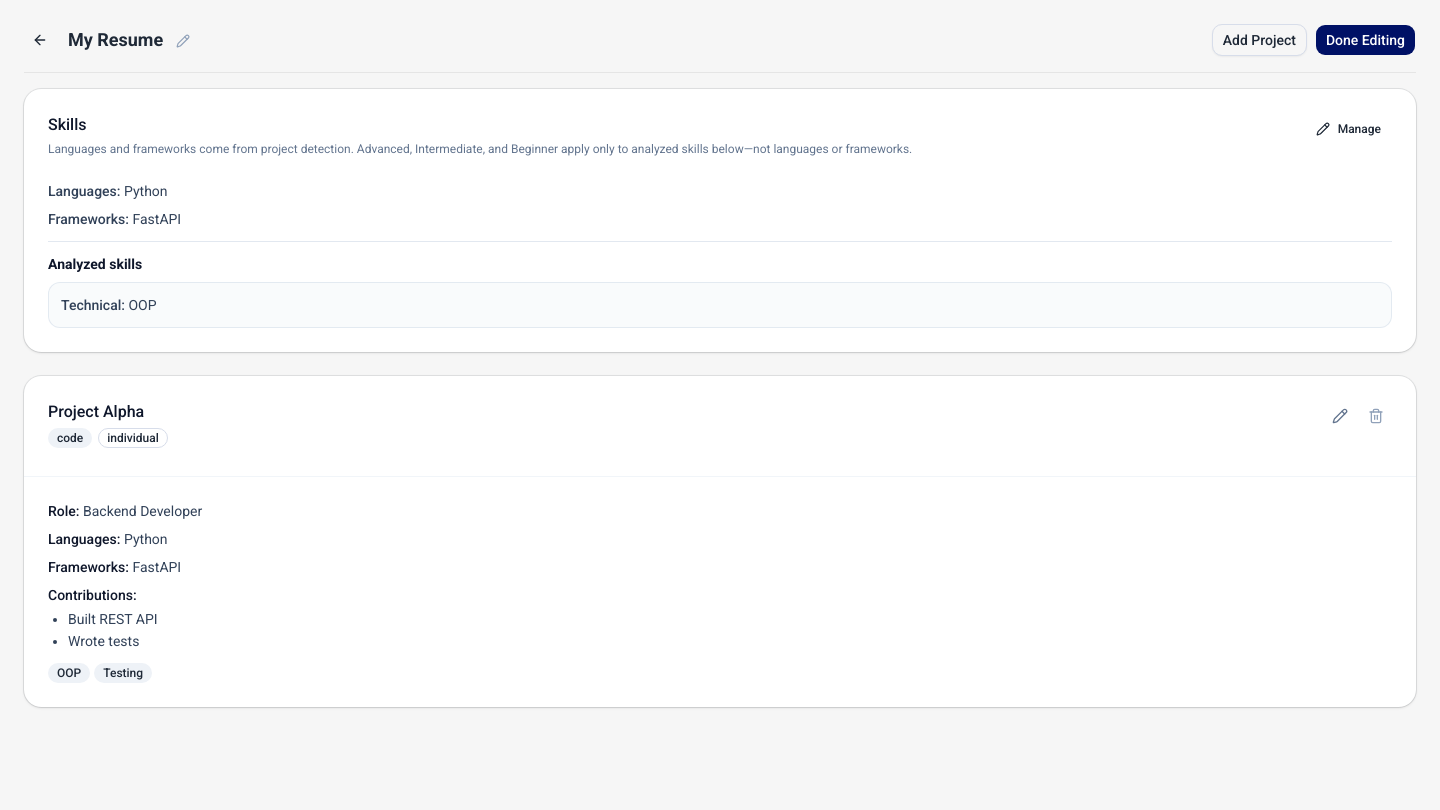
ResumeDetail › remove project from resume › shows error when remove fails
The image size is (1440, 810).
expect the text "Project Alpha" is shown: met, box x1=48 y1=402 x2=144 y2=421
Click the button named "Remove from resume" at point(1376, 416), box x1=1360 y1=400 x2=1392 y2=432
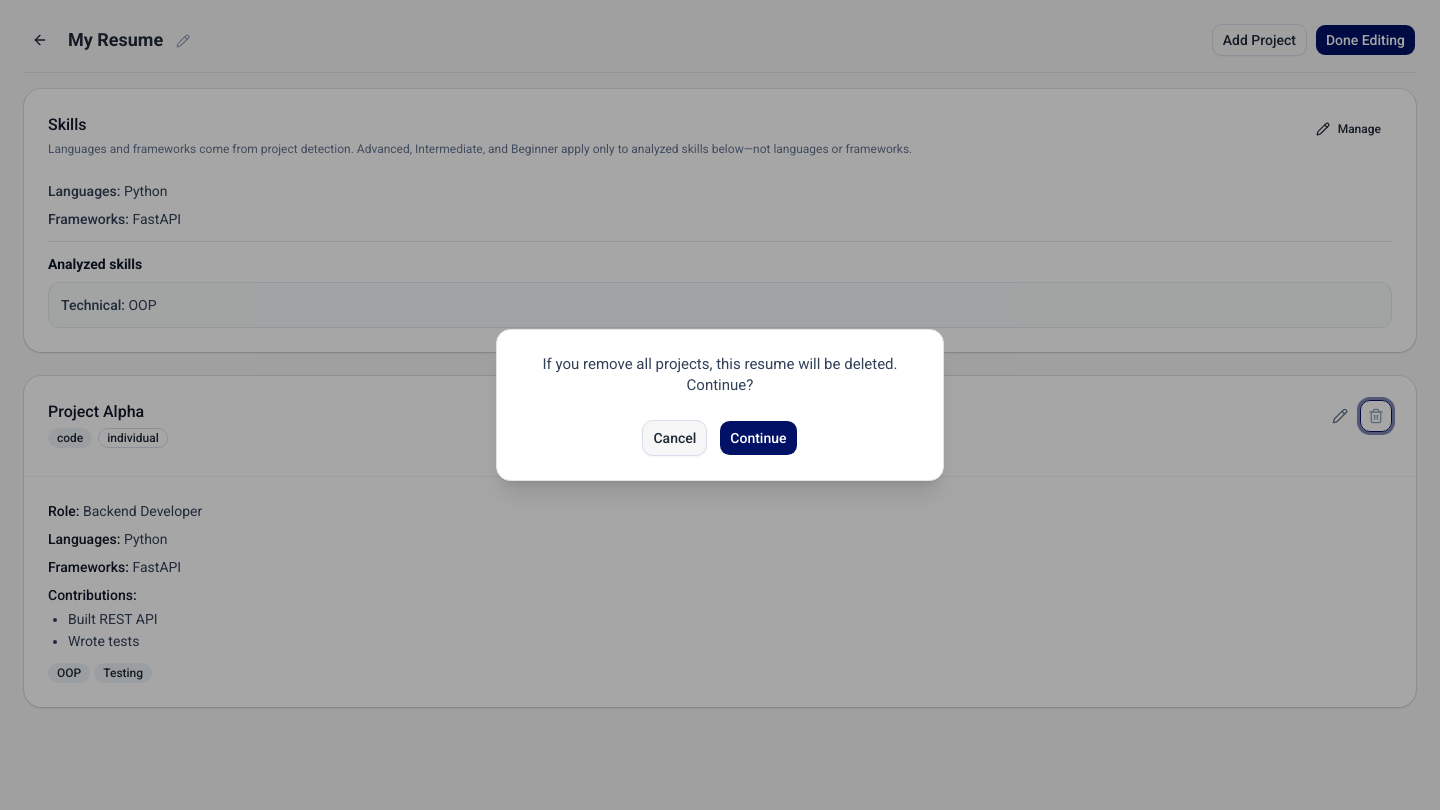
Click the button with test id "minimal-confirm-button" at point(758, 438), box x1=719 y1=420 x2=798 y2=456
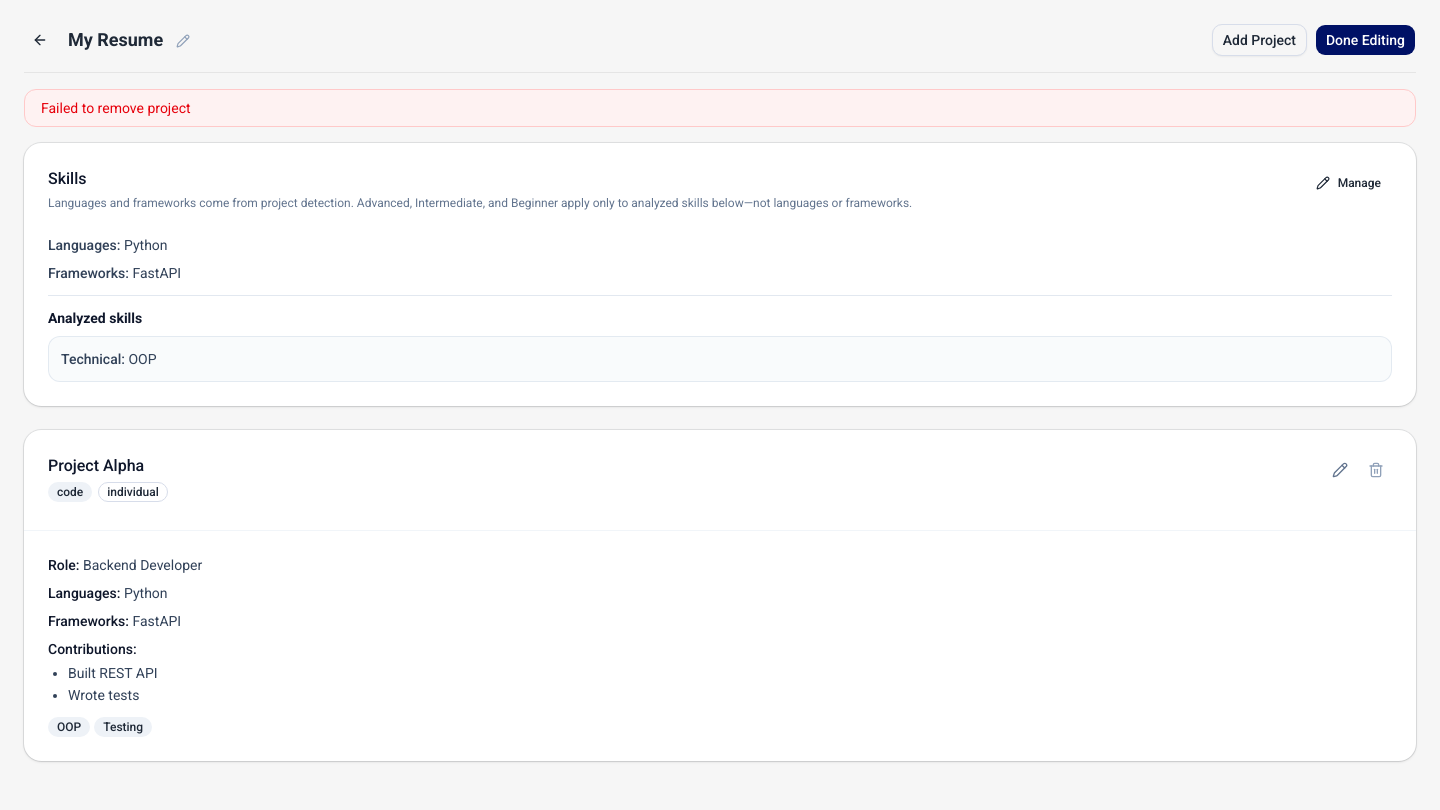
expect the text "Failed to remove project" is shown: met, box x1=24 y1=89 x2=1416 y2=127
